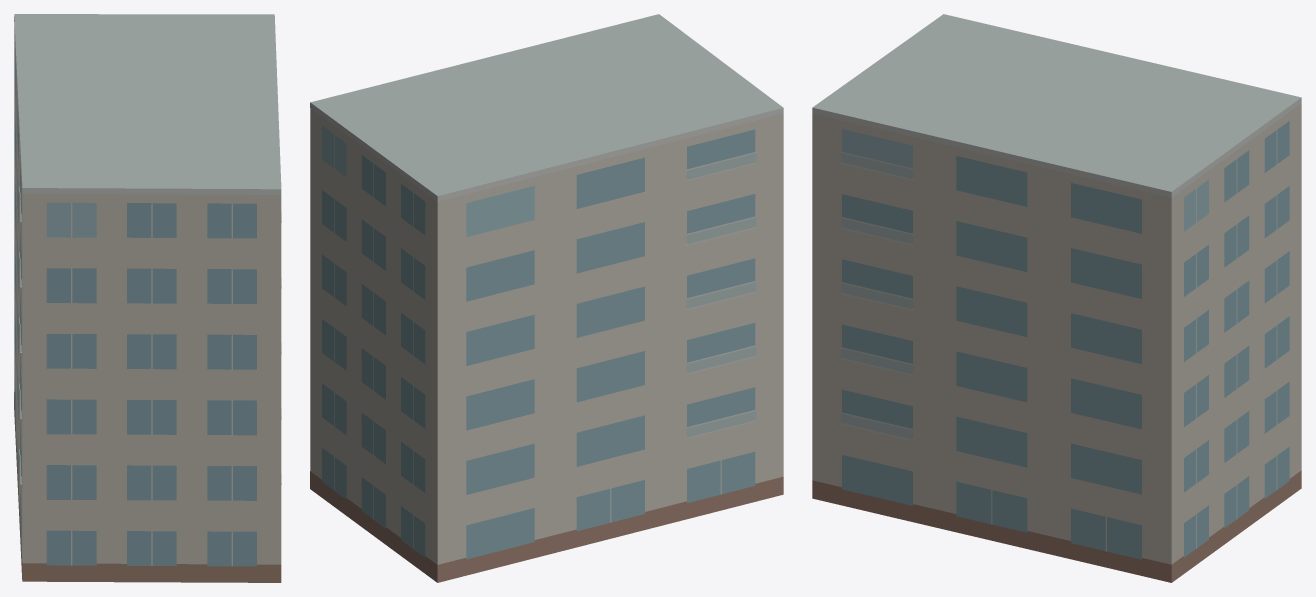
The model's file is survey-upis-32876814.glb.
The picture shows the model from 3 angles, left to right: view 1: azimuth 30°, elevation 25°; view 2: azimuth 150°, elevation 25°; view 3: azimuth 270°, elevation 25°; orthographic projection.
Parts seen in each view (by area): view 1: survey-upis-32876814.tmp; view 2: survey-upis-32876814.tmp; view 3: survey-upis-32876814.tmp.
Boxes of the visible parts, x1,y1,x2,y2 form: survey-upis-32876814.tmp: [14, 14, 281, 582]; survey-upis-32876814.tmp: [310, 14, 783, 582]; survey-upis-32876814.tmp: [812, 14, 1301, 582].
Size of the model in its own units: 16.31 by 16.7 by 18.95.
